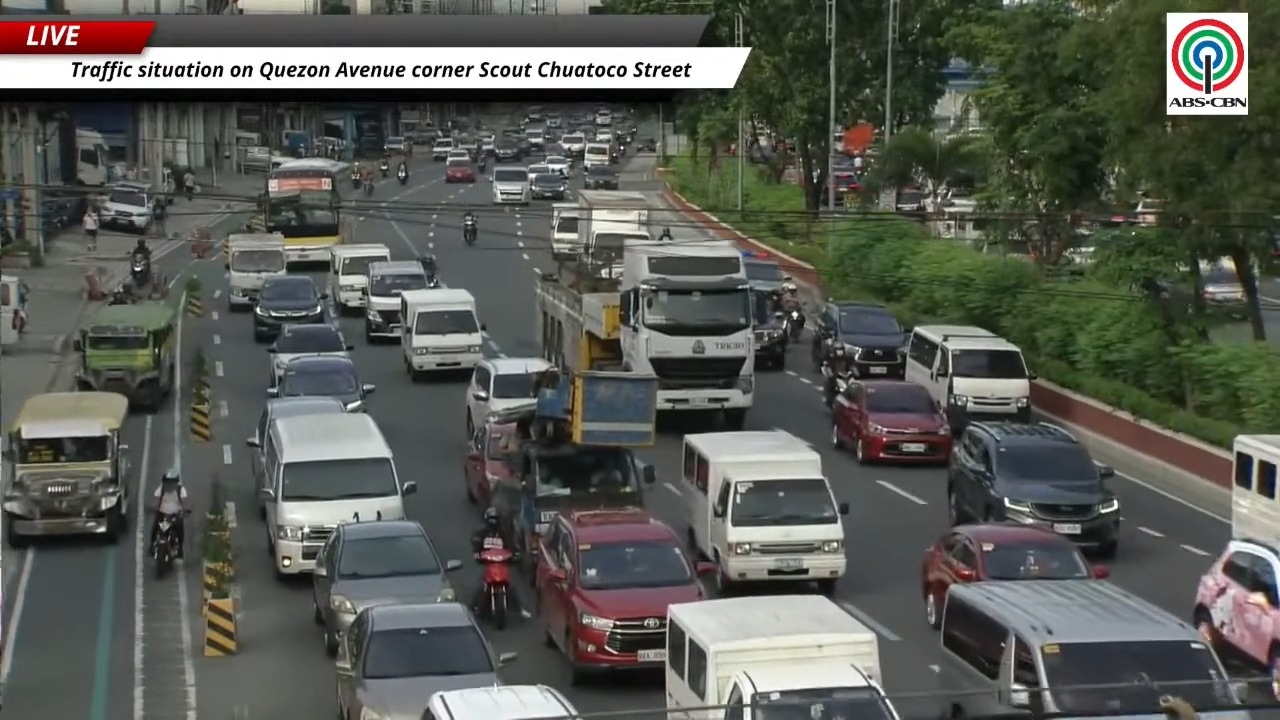bus: (263, 158, 347, 262)
car: (536, 509, 714, 684), (946, 421, 1120, 558), (335, 601, 515, 719), (312, 520, 461, 655), (921, 523, 1108, 628), (1193, 504, 1279, 699), (832, 380, 952, 463), (246, 396, 345, 488), (811, 301, 907, 378), (466, 357, 552, 435), (268, 357, 375, 411), (268, 325, 352, 385), (253, 275, 327, 341), (464, 421, 516, 507), (99, 183, 154, 234), (752, 288, 787, 368), (1202, 265, 1246, 315), (742, 251, 789, 293), (491, 167, 529, 204), (531, 172, 567, 200), (583, 164, 618, 189), (445, 158, 475, 183), (560, 131, 586, 157), (494, 137, 522, 161), (527, 163, 550, 189), (544, 155, 572, 176), (432, 137, 455, 160), (544, 140, 566, 161), (383, 136, 411, 152), (525, 128, 545, 150), (445, 147, 473, 162), (480, 133, 495, 155), (594, 128, 615, 143), (635, 137, 656, 151), (594, 110, 612, 126), (524, 109, 543, 124), (546, 115, 562, 127)
motorcycle: (475, 548, 514, 628), (151, 513, 181, 577), (821, 363, 851, 409), (130, 253, 150, 287), (784, 309, 805, 340), (463, 221, 477, 245), (379, 161, 389, 178), (427, 275, 440, 288), (363, 180, 374, 195), (351, 173, 361, 189), (397, 169, 407, 184), (478, 158, 486, 174)
truck: (535, 191, 754, 429), (486, 368, 656, 572), (665, 595, 898, 719), (577, 190, 650, 277), (226, 232, 286, 310), (76, 128, 109, 186)
